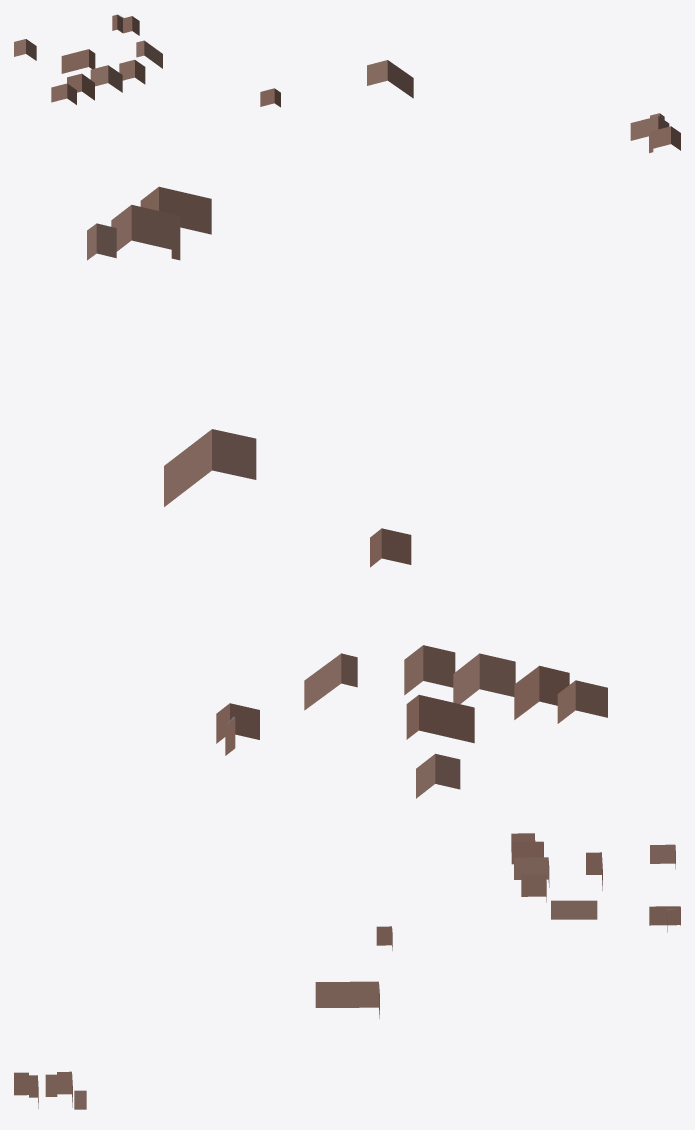
File: c_1639_17822_buildings_residential.glb
The picture shows the model from 3 angles, top to bottom: view 1: azimuth 30°, elevation 25°; view 2: azimuth 150°, elevation 25°; view 3: azimuth 270°, elevation 25°; orthographic projection. The views are drawn at different scales.
Visible parts, largest first — view 1: geometry_0; view 2: geometry_0; view 3: geometry_0.
Part boxes in pixels (x1=…): geometry_0: x1=14, y1=14, x2=680, y2=153; geometry_0: x1=87, y1=186, x2=607, y2=798; geometry_0: x1=14, y1=833, x2=680, y2=1109.
Size of the model in its own units: 239 by 11.08 by 255.
